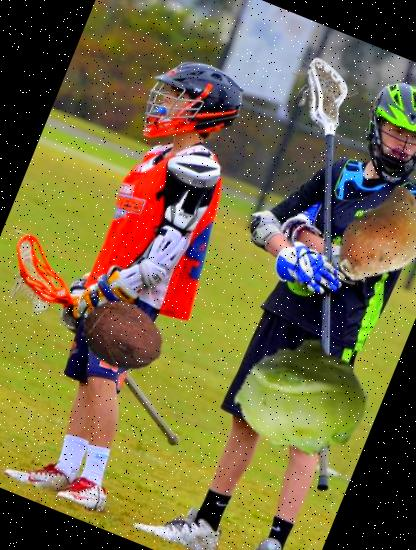Cocos: (68, 280, 176, 390)
Kohlrabi: (212, 307, 390, 485)
Potato: (311, 168, 416, 310)
